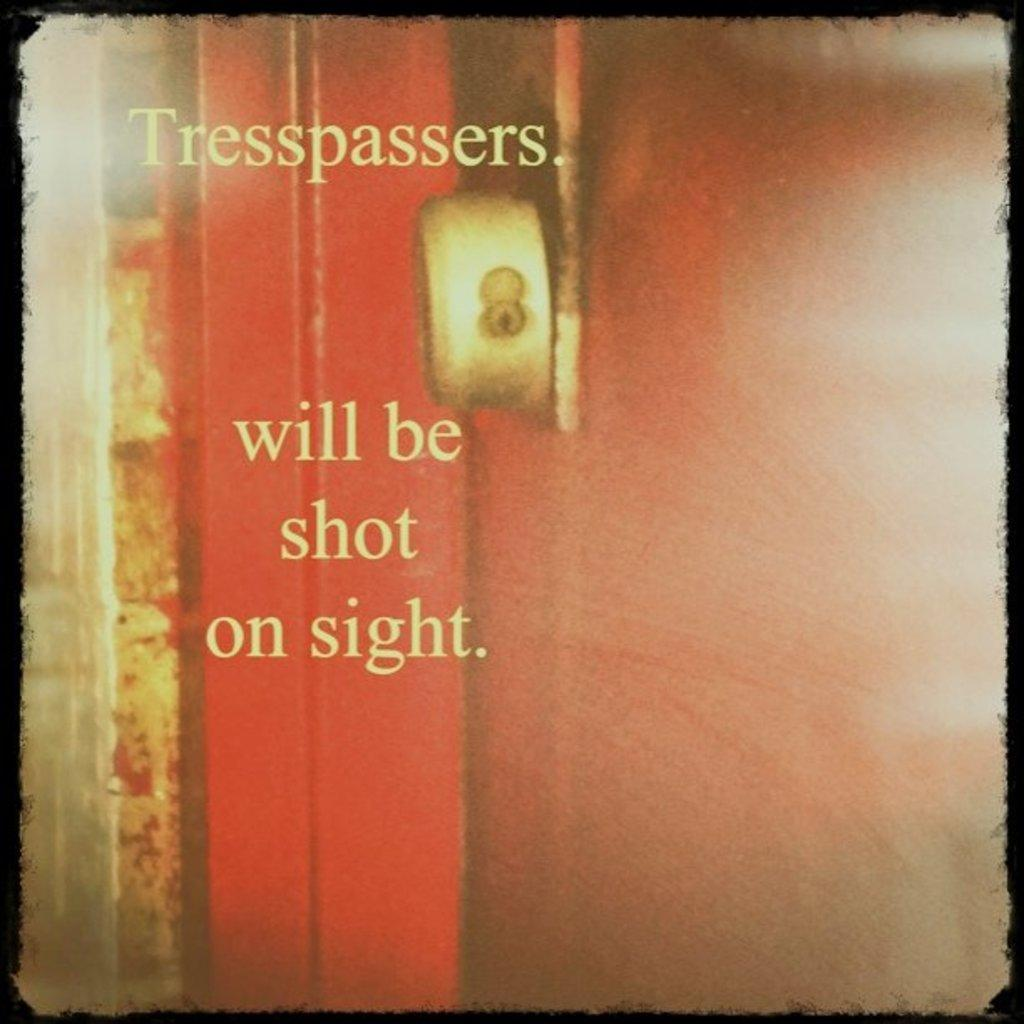book: (0, 0, 1014, 1024)
